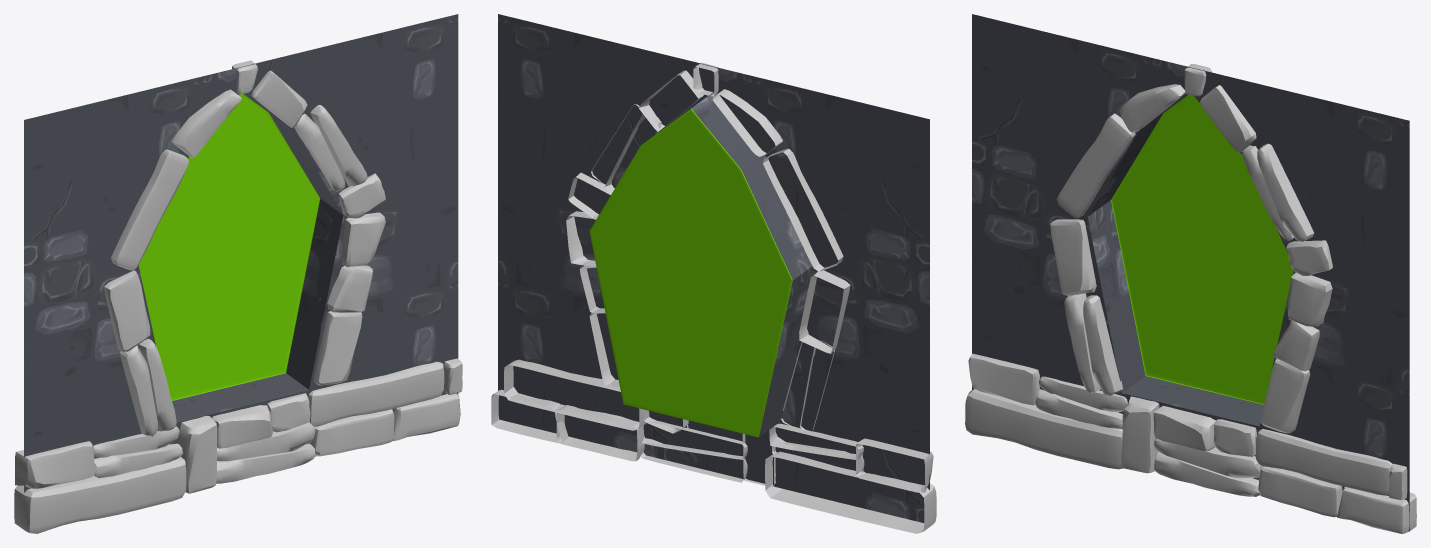
Rendered from wall with cristal.fbx.
The picture shows the model from 3 angles, left to right: view 1: azimuth 30°, elevation 25°; view 2: azimuth 150°, elevation 25°; view 3: azimuth 330°, elevation 25°; orthographic projection.
Parts seen in each view (by area): view 1: Wall_crystal; view 2: Wall_crystal; view 3: Wall_crystal.
Part boxes in pixels (x1,y1,x2,y2): Wall_crystal: (14,14,462,533); Wall_crystal: (491,14,936,533); Wall_crystal: (965,14,1416,533).
Size of the model in its own units: 14.07 by 12.72 by 1.87.
